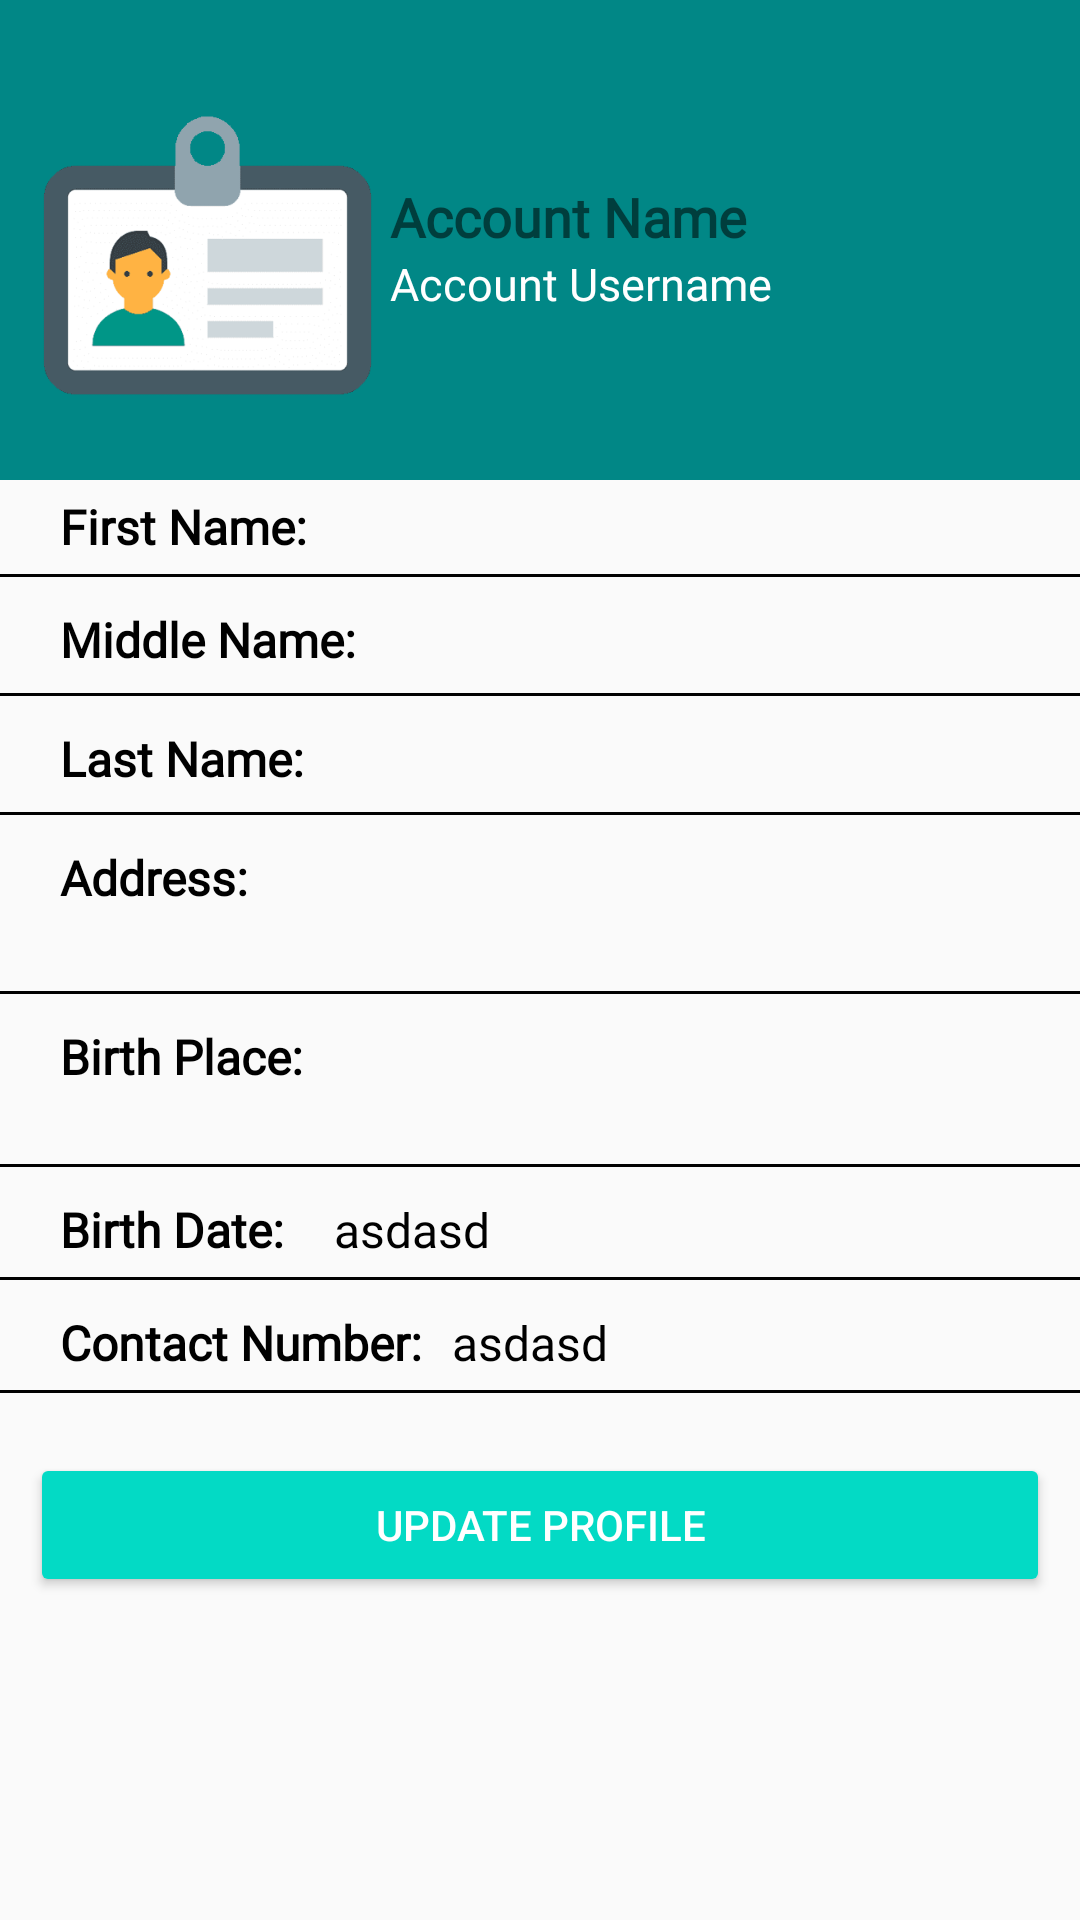

Point at icon controls on the screen. Image size 1080px x 1920px, points as (x=x, y=y).
visitor: (x=207, y=255)
